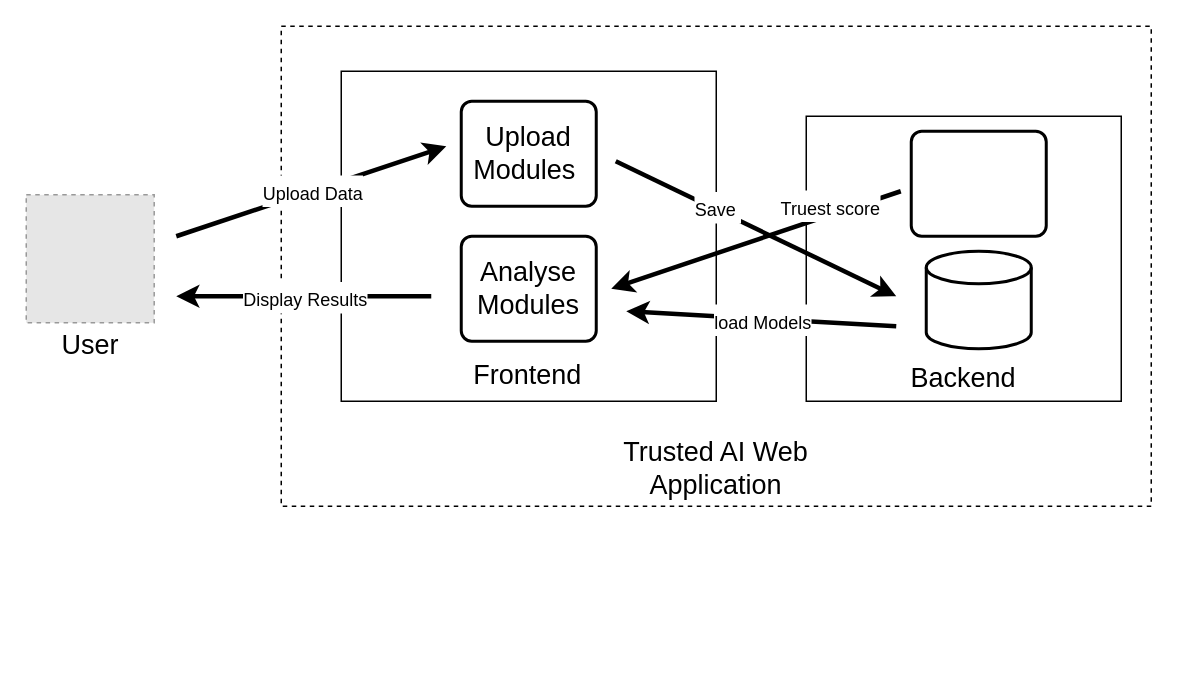
The diagram is 1178 pixels wide and 686 high, and some of its shapes have lost their labels. Grey dashed boxes stand in for pictures. Each missing label, with the centre of its shape:
DB: the point at 978,299
Trusted AI Algorithm: the point at 978,183
